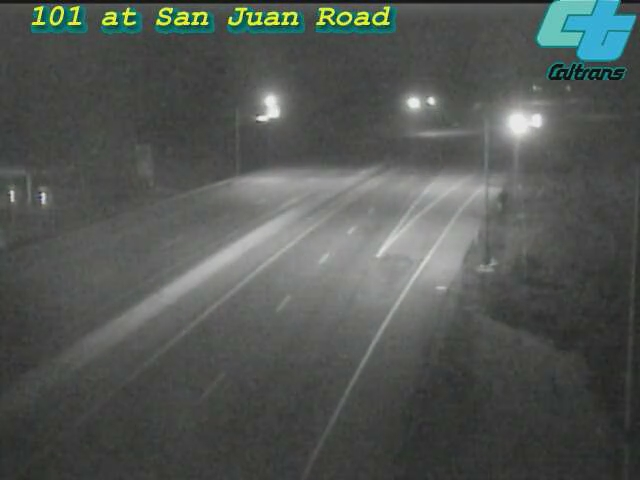vehicle: (490, 101, 540, 151), (512, 96, 562, 146)
